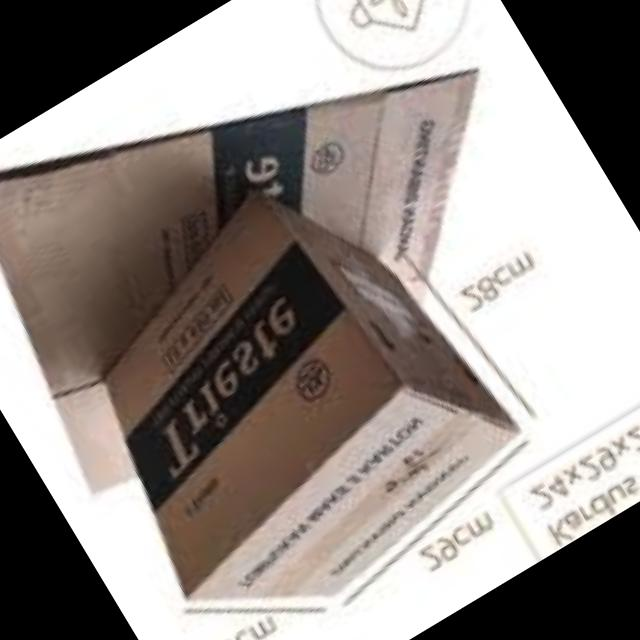Kardus: (0, 0, 566, 496), (15, 130, 561, 640)
